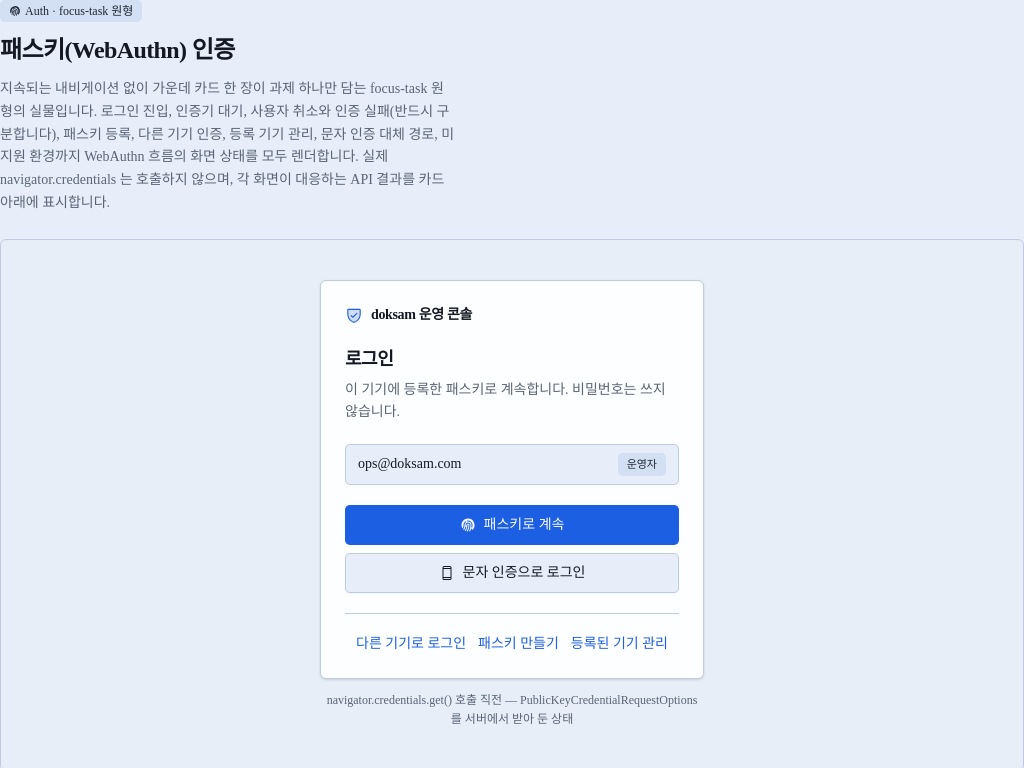
Test case: PasskeyAuthPage › moves to the authenticator-waiting screen from the primary action
This screenshot has width=1024, height=768.
Click the button "패스키로 계속" at (512, 524), box [345, 504, 679, 544]
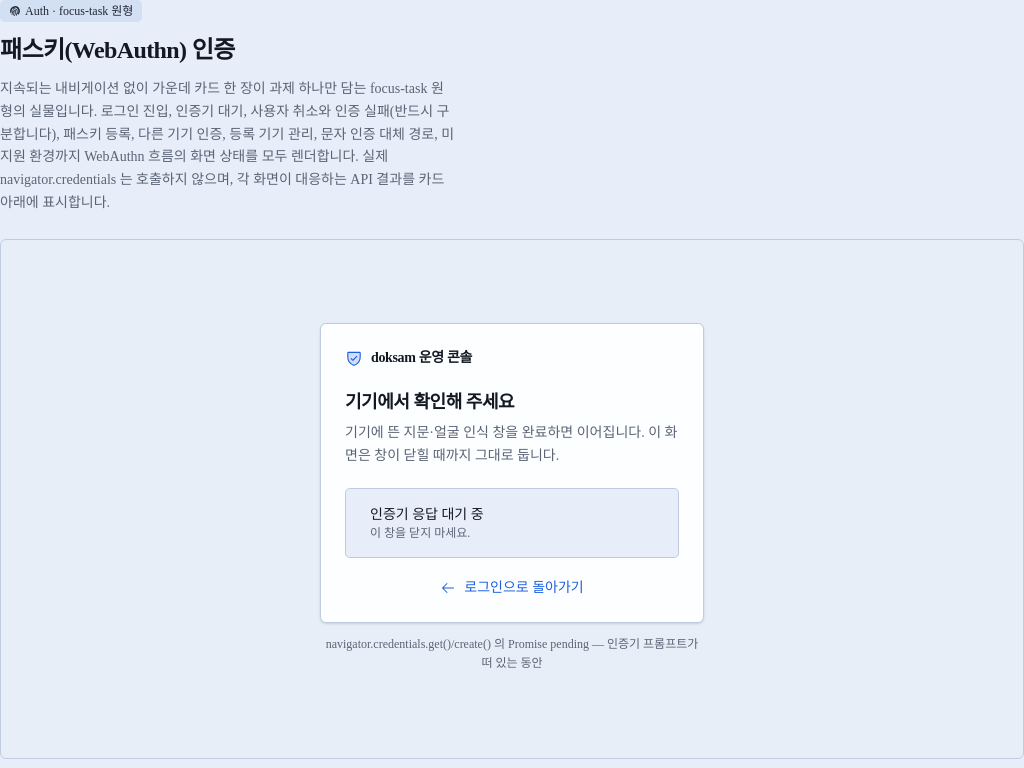
Result: the heading "기기에서 확인해 주세요" is shown at [345, 392, 514, 412]
Result: the text "인증기 응답 대기 중" is shown at [370, 505, 484, 525]
